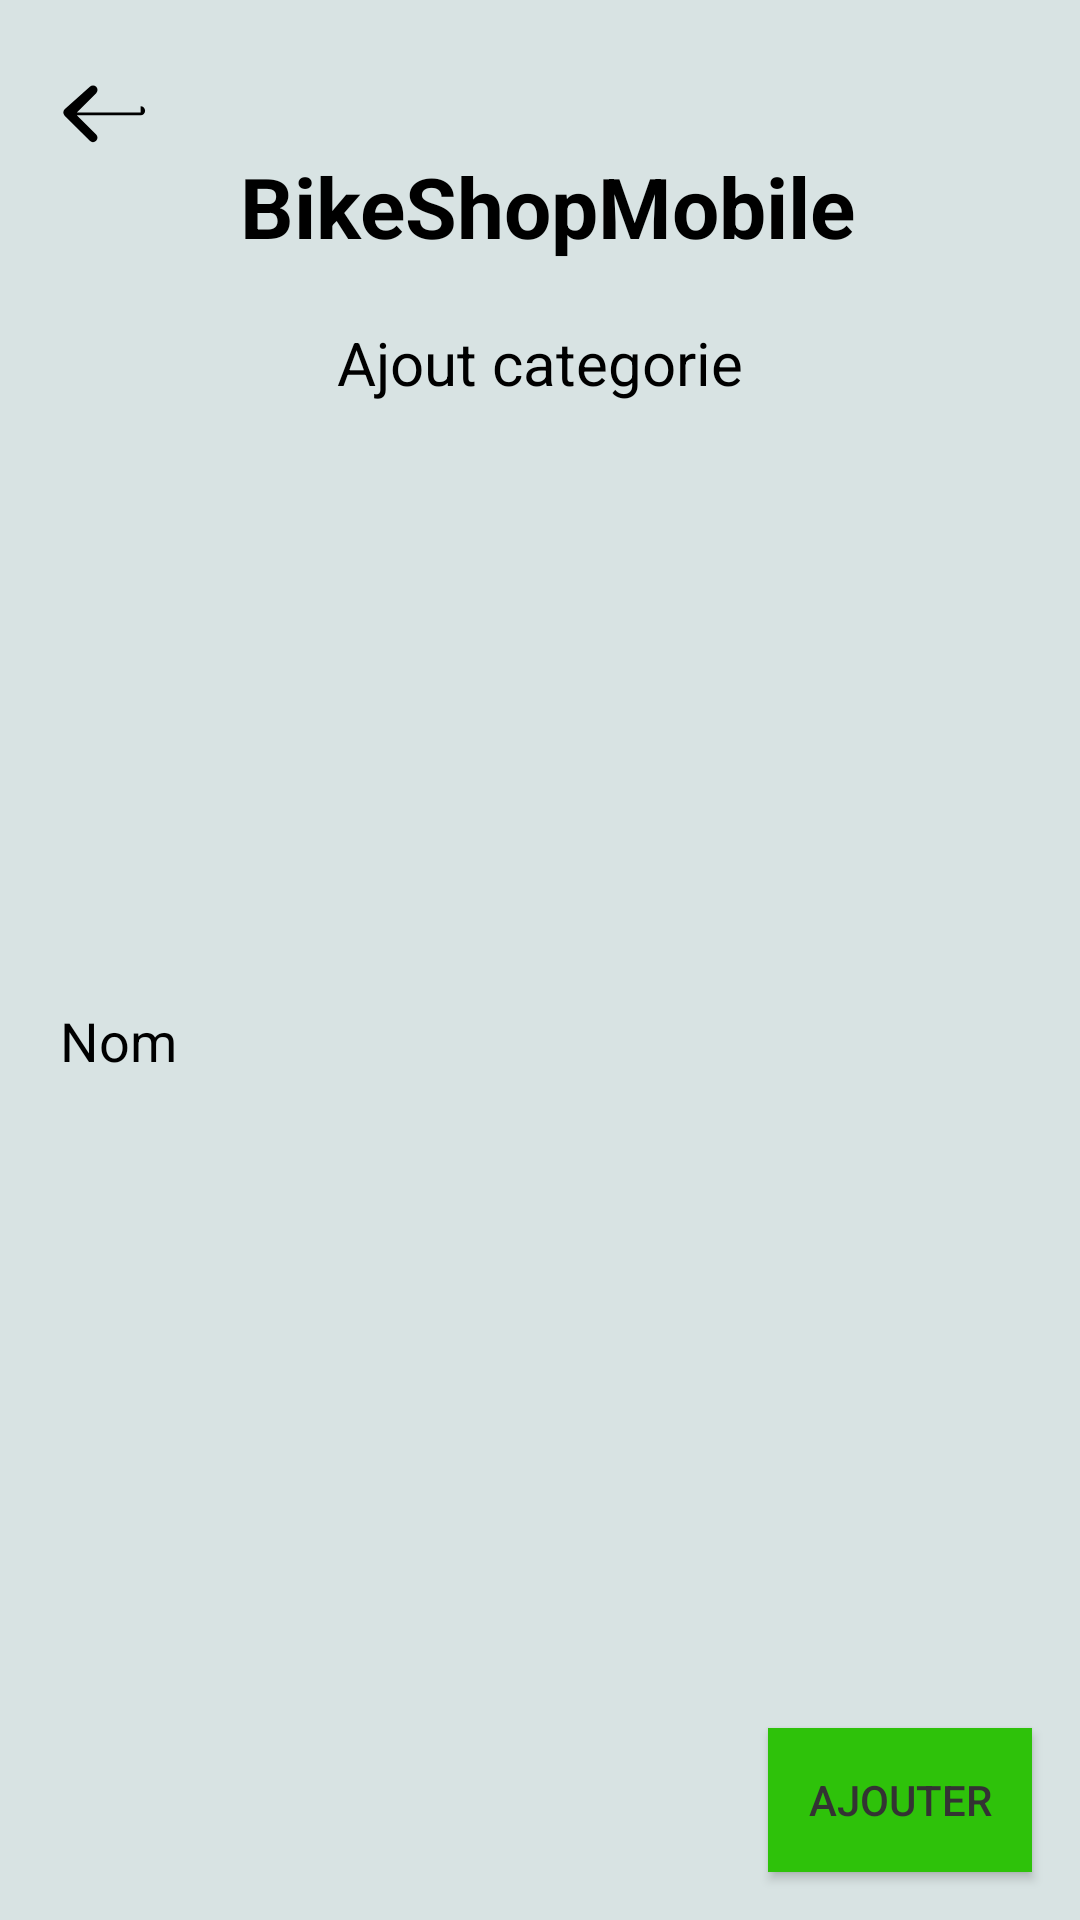

Point at icon controls on the screen. Image size 1080w x 1920h, points as (x,y).
back: (104,114)
